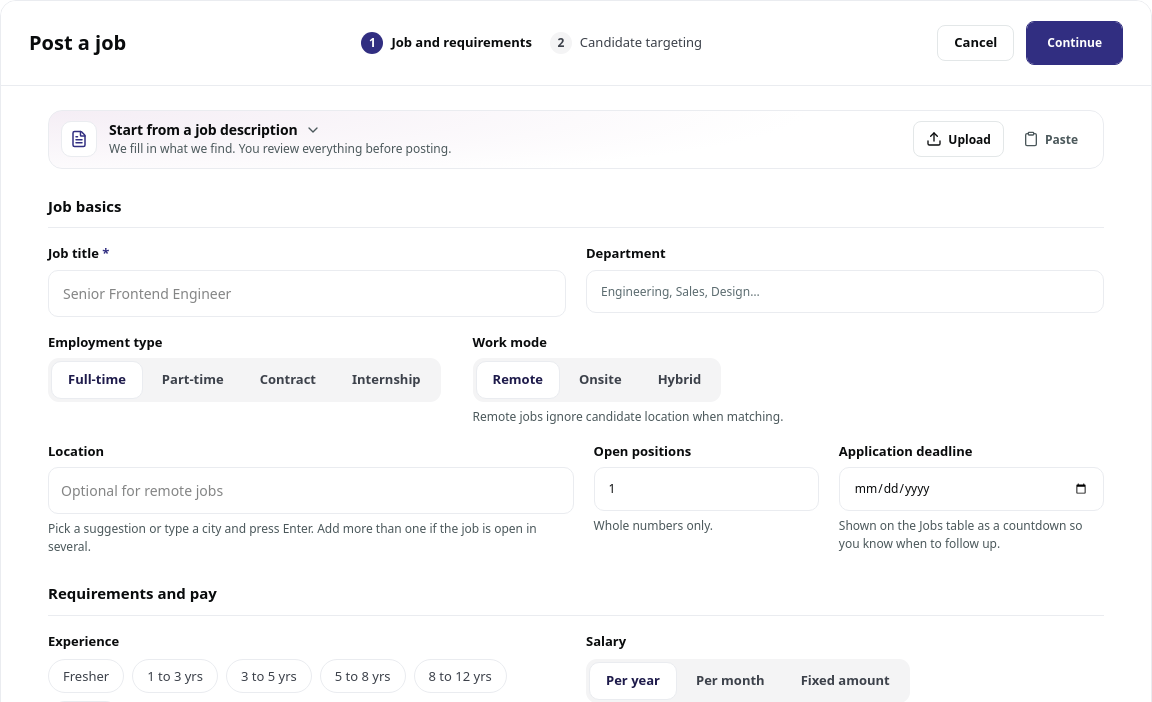
Test case: RequirementForm (create) › does not advance with missing required fields, lists them, and focuses the first
Click the button "Continue".
click(1075, 43)  # box [1026, 21, 1123, 65]
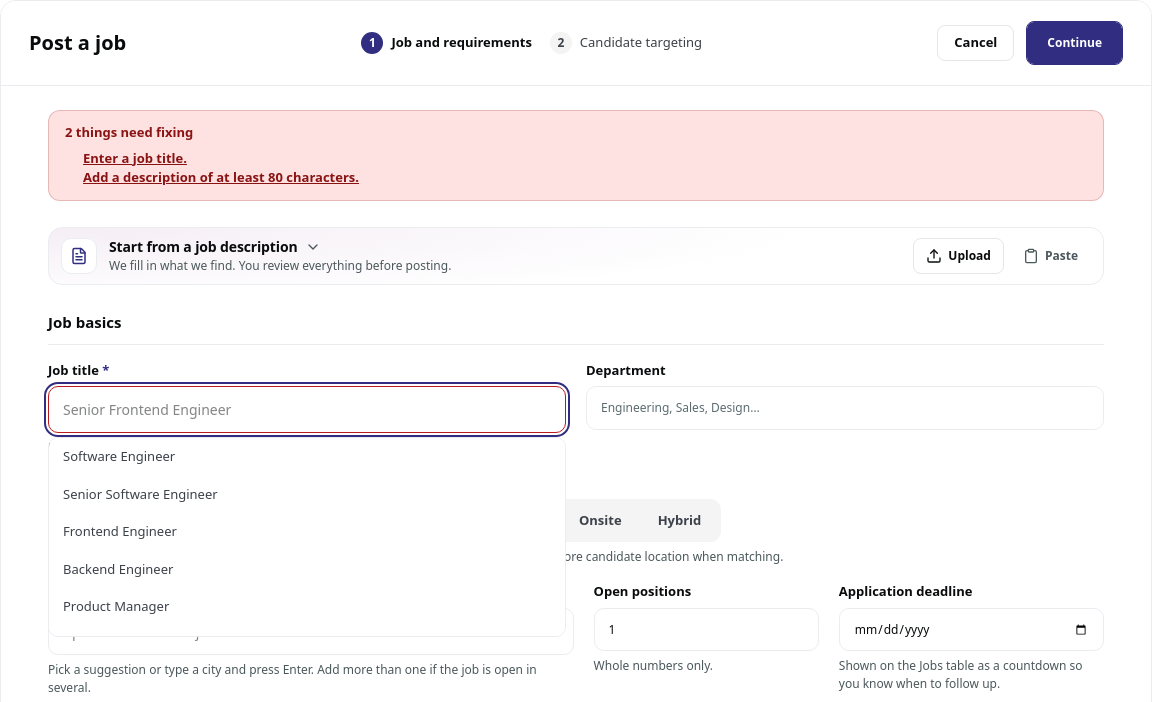
Expected: the message shows "2 things need fixing", [65, 123, 193, 141]
